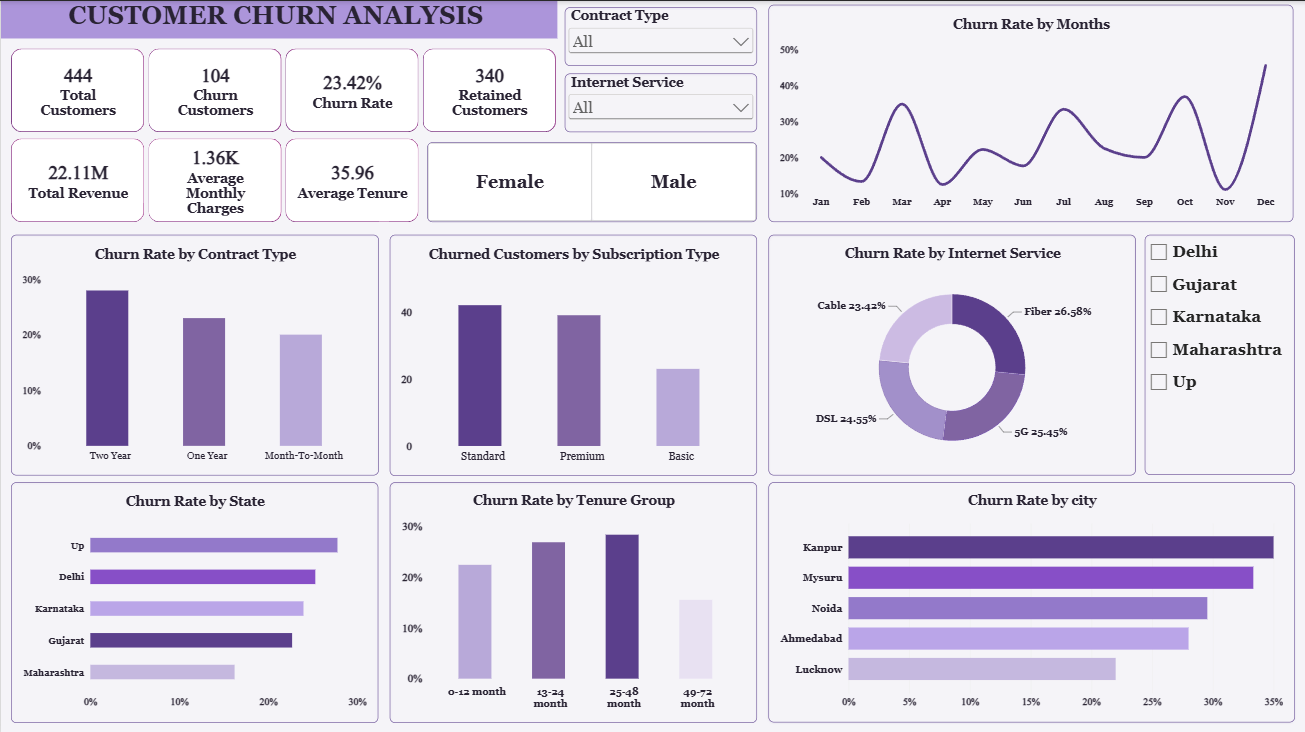

This screenshot's page, from the dashboard's own definition file:
{"tool":"powerbi","page":{"name":"Page 1","canvas":[1920,1080],"ordinal":0},"visuals":[{"type":"cardVisual","fields":{"Data":["Dax Measure (2).Total Customers","Dax Measure (2).Churn Customers","Dax Measure (2).Churn Rate","Dax Measure (2).Retained Customers"]},"box":[14.7,69.9,804.3,123.3],"z":0},{"type":"textbox","box":[0,0,819,55.2],"z":1000},{"type":"clusteredColumnChart","title":"Churn Rate by Contract Type","fields":{"Category":["customer_churn.contract_type"],"Y":["Dax Measure (2).Churn Rate"]},"box":[14.7,344.3,541.3,354],"z":2000},{"type":"columnChart","title":"Churned Customers by Subscription Type","fields":{"Category":["customer_churn.subscription_type"],"Y":["Sum(customer_churn.churn_flag)"]},"box":[572.1,343.6,541.1,355.2],"z":3000},{"type":"barChart","fields":{"Y":["Dax Measure (2).Churn Rate"],"Category":["customer_churn.city"]},"box":[1130.1,708.2,774.9,353.4],"z":4000},{"type":"clusteredBarChart","title":"Churn Rate by State","fields":{"Category":["customer_churn.state"],"Y":["Dax Measure (2).Churn Rate"]},"box":[14.7,708,541,354],"z":5000},{"type":"columnChart","title":"Churn Rate by Tenure Group","fields":{"Category":["customer_churn.tenure_group"],"Y":["Dax Measure (2).Churn Rate"]},"box":[571.7,708,541,354],"z":6000},{"type":"donutChart","title":"Churn Rate by Internet Service","fields":{"Category":["customer_churn.internet_service"],"Y":["CountNonNull(customer_churn.churn)"]},"box":[1130.1,343.8,541,354],"z":7000},{"type":"slicer","fields":{"Values":["customer_churn.state"]},"box":[1684.1,343.8,220.9,353.4],"z":8000},{"type":"cardVisual","fields":{"Data":["Dax Measure (2).Total Revenue","Dax Measure (2).Average Monthly Charges","Dax Measure (2).Average Tenure"]},"box":[14.7,202.5,600,123.3],"z":9000},{"type":"lineChart","fields":{"Y":["Dax Measure (2).Churn Rate"],"Category":["customer_churn.Months"]},"box":[1130.1,5.5,773,320.2],"z":10000},{"type":"slicer","fields":{"Values":["customer_churn.contract_type"]},"box":[830.1,9.2,283.4,86.5],"z":11000},{"type":"slicer","fields":{"Values":["customer_churn.internet_service"]},"box":[830.1,106.7,283.4,86.5],"z":12000},{"type":"advancedSlicerVisual","title":"Gender","fields":{"Values":["customer_churn.gender"]},"box":[627.6,208,485.9,117.8],"z":13000}]}

Visuals, with their boxes in screenshot pixels (x1, y1, x2, y2), scaled from the page's 1920x1080 canvas onto the 1305x732 screenshot:
cardVisual - Dax Measure (2).Total Customers x Dax Measure (2).Churn Customers: 10/47/557/131
textbox: 0/0/557/37
"Churn Rate by Contract Type" clusteredColumnChart: 10/233/378/473
"Churned Customers by Subscription Type" columnChart: 389/233/757/474
barChart - Dax Measure (2).Churn Rate x customer_churn.city: 768/480/1295/720
"Churn Rate by State" clusteredBarChart: 10/480/378/720
"Churn Rate by Tenure Group" columnChart: 389/480/756/720
"Churn Rate by Internet Service" donutChart: 768/233/1136/473
slicer - customer_churn.state: 1145/233/1295/473
cardVisual - Dax Measure (2).Total Revenue x Dax Measure (2).Average Monthly Charges: 10/137/418/221
lineChart - Dax Measure (2).Churn Rate x customer_churn.Months: 768/4/1294/221
slicer - customer_churn.contract_type: 564/6/757/65
slicer - customer_churn.internet_service: 564/72/757/131
"Gender" advancedSlicerVisual: 427/141/757/221
